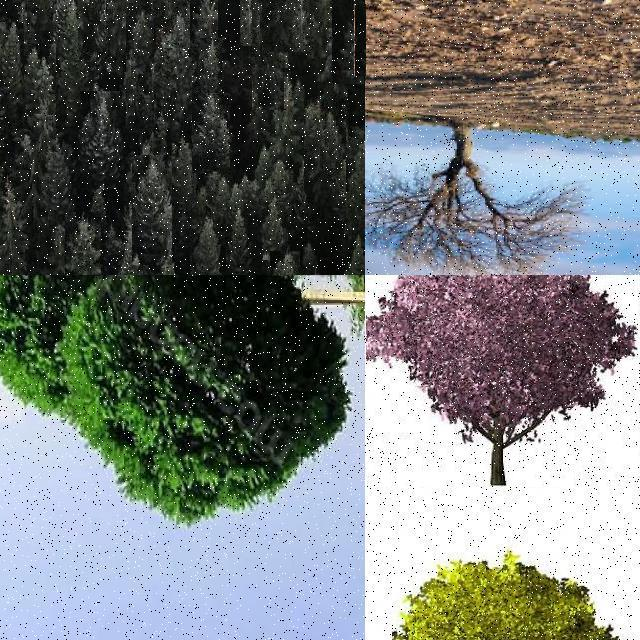tree: (84, 276, 348, 532), (366, 275, 640, 487), (364, 122, 580, 274), (498, 276, 640, 476), (392, 544, 640, 640), (0, 275, 137, 433), (494, 494, 640, 640), (304, 99, 346, 221), (60, 0, 98, 128), (132, 155, 172, 265), (154, 15, 193, 123), (314, 9, 358, 102), (80, 91, 120, 189), (24, 44, 56, 152), (252, 2, 284, 110), (126, 12, 154, 128), (270, 77, 306, 163), (339, 138, 365, 252), (192, 93, 230, 171), (40, 134, 72, 226), (332, 0, 364, 84), (0, 181, 28, 275), (262, 0, 310, 52), (15, 0, 55, 62), (0, 22, 24, 122), (65, 212, 101, 276), (53, 0, 91, 60), (343, 0, 365, 96), (190, 219, 226, 275), (220, 0, 256, 56), (260, 0, 288, 68), (78, 0, 114, 52), (240, 0, 280, 46), (292, 159, 316, 235), (346, 0, 366, 88), (156, 0, 192, 48), (76, 0, 112, 48), (106, 0, 130, 72), (206, 1, 238, 52), (172, 143, 196, 209), (228, 211, 252, 275), (27, 0, 59, 48), (198, 38, 222, 98), (262, 202, 286, 260), (298, 0, 330, 42), (190, 0, 218, 46), (0, 0, 25, 51), (348, 64, 364, 140), (162, 0, 194, 36), (119, 231, 145, 275), (103, 218, 123, 274), (96, 0, 124, 40), (345, 0, 365, 54), (0, 0, 13, 83), (50, 0, 76, 40), (340, 235, 364, 275), (270, 0, 294, 40), (116, 0, 144, 34), (30, 0, 56, 36), (127, 0, 153, 36), (352, 144, 364, 220), (185, 0, 209, 38), (89, 183, 107, 233), (157, 0, 179, 40), (354, 4, 366, 76), (26, 0, 49, 32), (270, 251, 300, 275), (8, 0, 28, 28), (314, 0, 332, 28), (147, 0, 165, 28)
